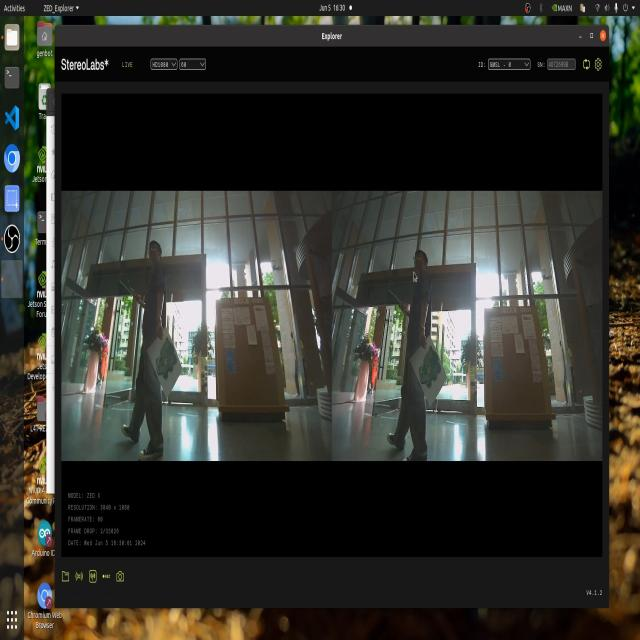green: (150, 324, 187, 388), (409, 344, 450, 396)
